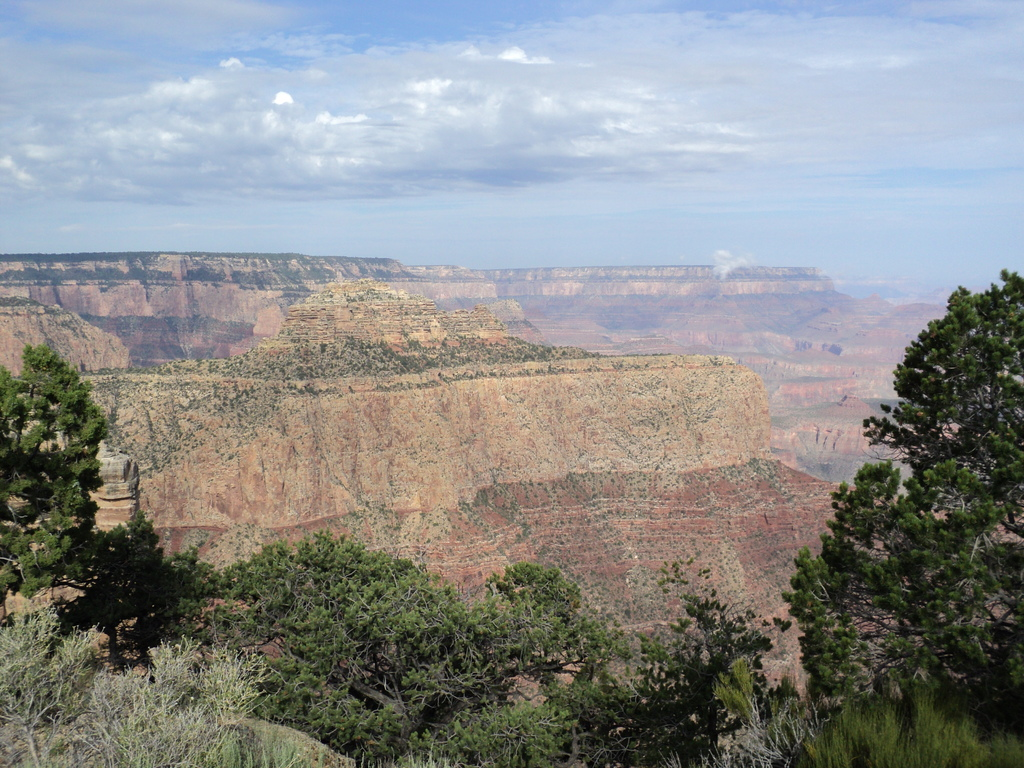Tree: (0, 266, 1024, 768)
